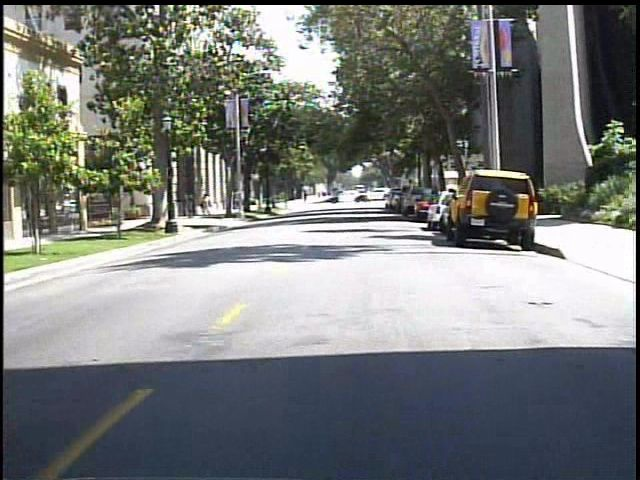person: (199, 189, 219, 222), (178, 187, 196, 221)
